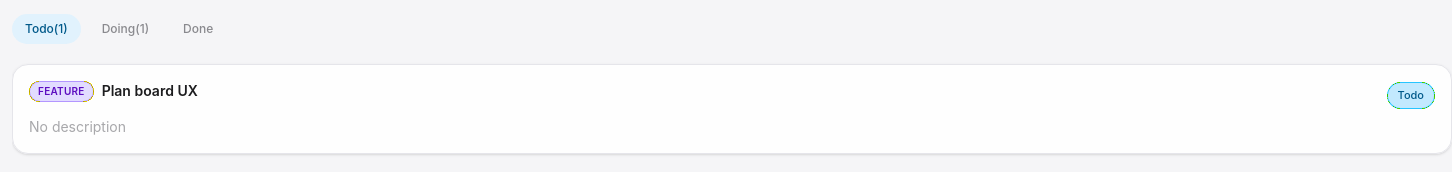
Test case: IssueList › shows only one status when filters are selected
Click the button "Doing(1)" at (125, 29), box top-left (89, 14), bottom-right (162, 44)
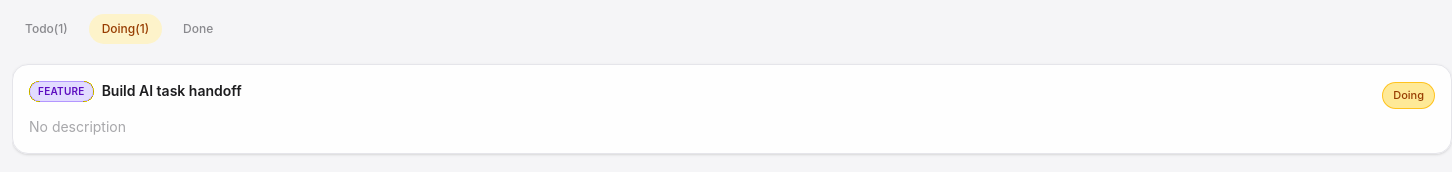
Expected: the button "Plan board UX" is gone
Expected: the heading "Build AI task handoff" is shown, top-left (102, 82), bottom-right (242, 99)
